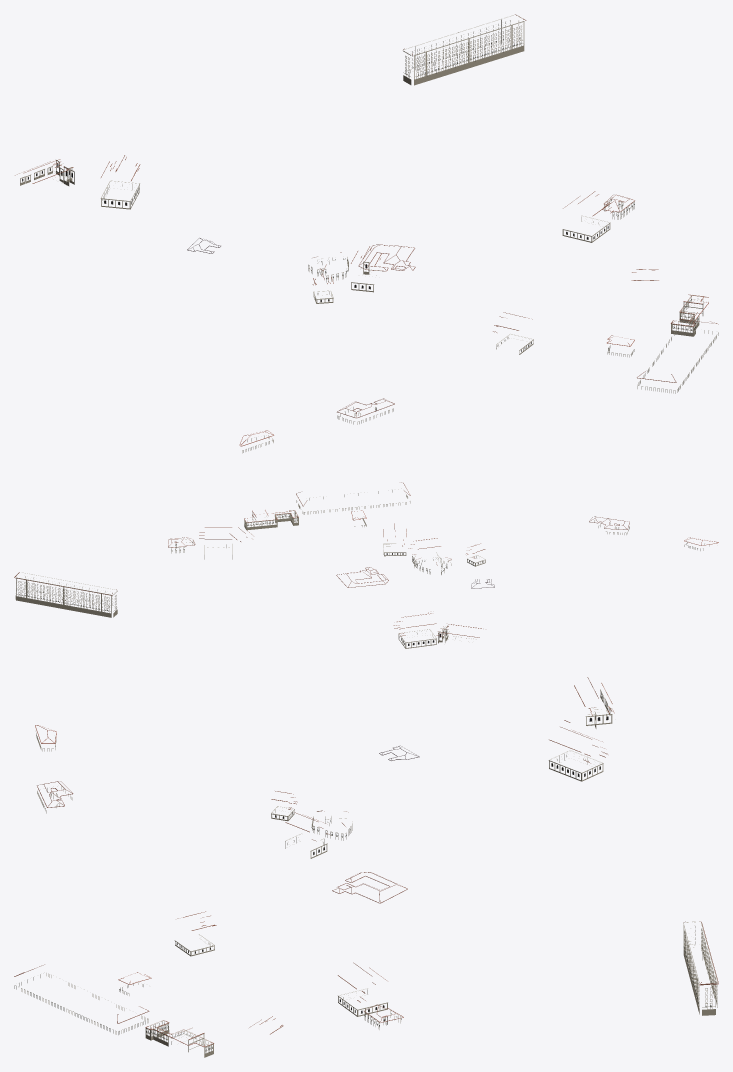
The picture shows the model from 3 angles, top to bottom: view 1: azimuth 30°, elevation 25°; view 2: azimuth 150°, elevation 25°; view 3: azimuth 270°, elevation 25°; orthographic projection. The views are drawn at different scales.
Visible parts, largest first — view 1: detail; view 2: detail; view 3: detail.
Boxes of the visible parts, x1=… form: detail: x1=15, y1=14, x2=718, y2=453; detail: x1=14, y1=482, x2=718, y2=648; detail: x1=14, y1=677, x2=718, y2=1057.
Bounding box in the file's own units: 525 × 100 × 508.
